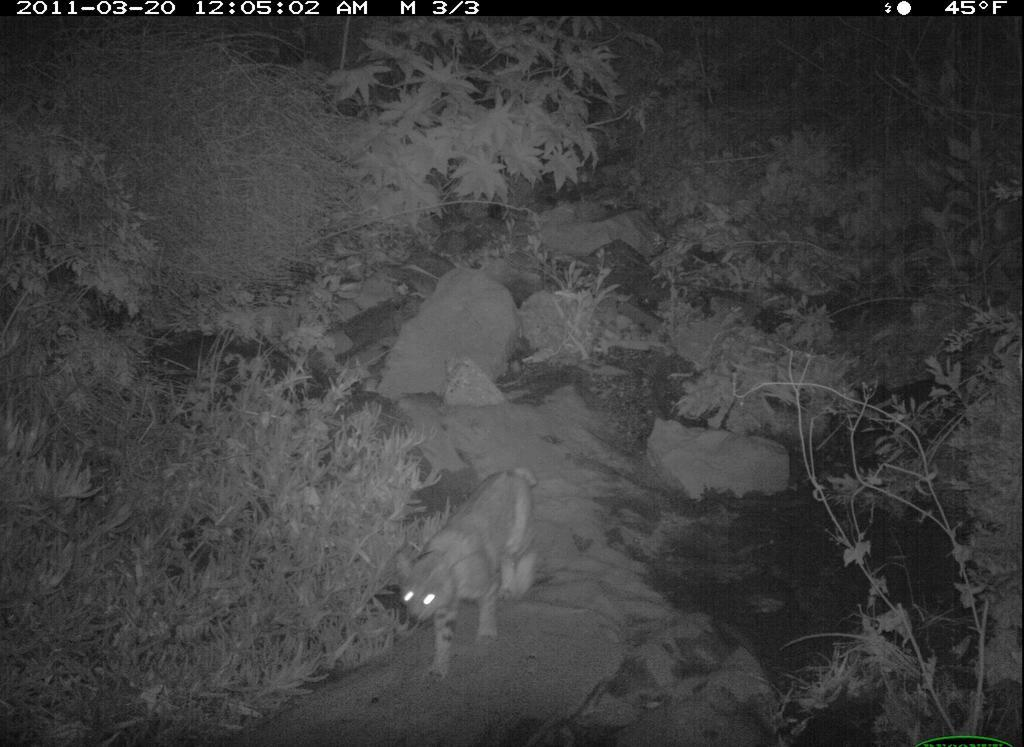bobcat: (385, 455, 550, 696)
